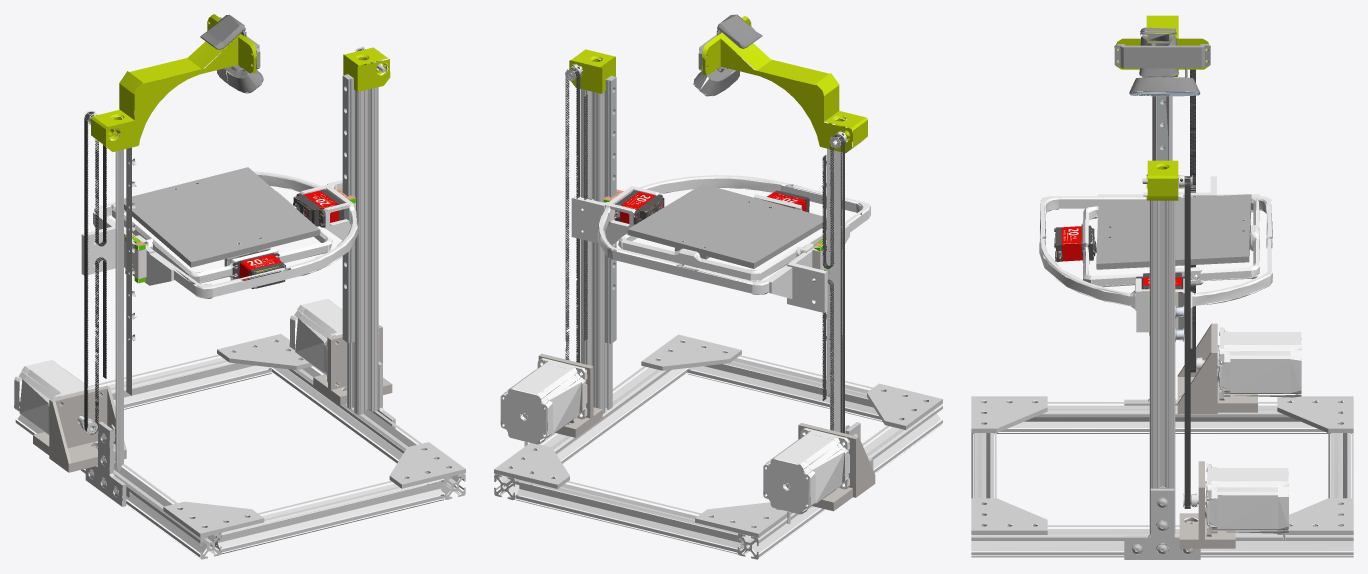
Rendered from pingpongtest.glb.
3 renders of one model, left to right at view 1: azimuth 30°, elevation 25°; view 2: azimuth 150°, elevation 25°; view 3: azimuth 270°, elevation 25°, orthographic. The views are drawn at different scales.
Parts seen in each view (by area): view 1: 1327K509_Rotary Shaft-1, DS3218MG MS24 Digital Servo 270-1.001, 47065T411_T-Slotted Framing (1)-1.001; view 2: 1327K509_Rotary Shaft-1, DS3218MG MS24 Digital Servo 270-1.001, 47065T411_T-Slotted Framing (1)-1.001; view 3: 1327K509_Rotary Shaft-1, DS3218MG MS24 Digital Servo 270-1.001, 47065T411_T-Slotted Framing (1)-1.001.
Part boxes in pixels (box(x1,y1,x2,y2)): 1327K509_Rotary Shaft-1: box(14, 14, 465, 559); DS3218MG MS24 Digital Servo 270-1.001: box(81, 167, 358, 298); 47065T411_T-Slotted Framing (1)-1.001: box(113, 132, 146, 472); 1327K509_Rotary Shaft-1: box(494, 14, 942, 559); DS3218MG MS24 Digital Servo 270-1.001: box(571, 175, 870, 312); 47065T411_T-Slotted Framing (1)-1.001: box(812, 133, 845, 432); 1327K509_Rotary Shaft-1: box(971, 15, 1353, 559); DS3218MG MS24 Digital Servo 270-1.001: box(1039, 176, 1272, 348); 47065T411_T-Slotted Framing (1)-1.001: box(1152, 77, 1172, 168).
Size of the model in its own units: 0.3864 by 0.5049 by 0.381.
